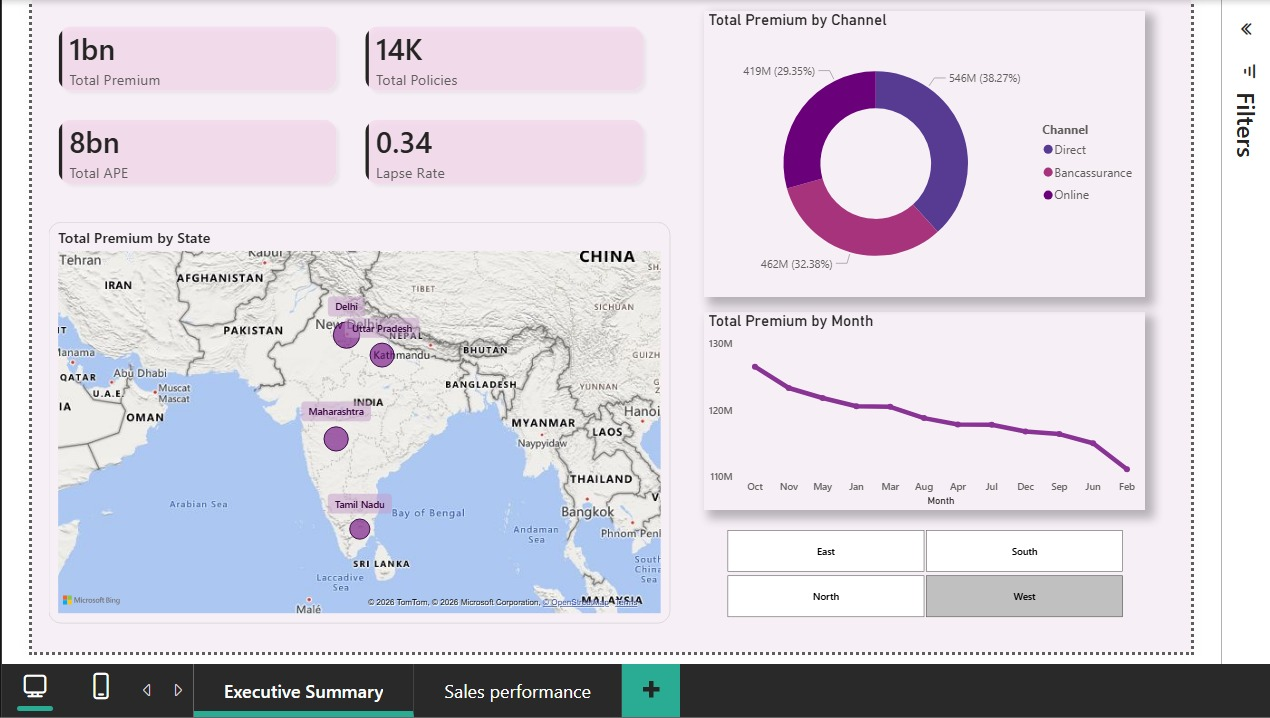

The page's visual inventory and layout, read from the dashboard file:
{"tool":"powerbi","page":{"name":"Executive Summary","canvas":[1280,720],"ordinal":0},"visuals":[{"type":"cardVisual","fields":{"Data":["Fact_Sales.Total Premium","Fact_Sales.Total Policies","Fact_Sales.Total APE","Fact_Sales.Lapse Rate"]},"box":[0,0,705,233.3],"z":0},{"type":"lineChart","fields":{"Y":["Fact_Sales.Total Premium"],"Category":["Dim_Date.Month"]},"box":[741.7,345,486.7,218.3],"z":1000},{"type":"donutChart","fields":{"Y":["Fact_Sales.Total Premium"],"Category":["Dim_Agent.Channel"]},"box":[741.7,11.7,486.7,316.7],"z":2000},{"type":"map","fields":{"Size":["Fact_Sales.Total Premium"],"Category":["Dim_Branch.State"]},"box":[18.3,245,686.7,443.3],"z":3000},{"type":"slicer","fields":{"Values":["Dim_Branch.Region"]},"box":[741.7,578.3,486.7,110],"z":4000}]}

Visuals, with their boxes on the page's 1280x720 design canvas (x1, y1, x2, y2). These are canvas units, not pixel positions in the 1270x718 screenshot, which may show the page scaled, cropped or inside an application window:
cardVisual - Fact_Sales.Total Premium x Fact_Sales.Total Policies: left=0, top=0, right=705, bottom=233
lineChart - Fact_Sales.Total Premium x Dim_Date.Month: left=742, top=345, right=1228, bottom=563
donutChart - Fact_Sales.Total Premium x Dim_Agent.Channel: left=742, top=12, right=1228, bottom=328
map - Fact_Sales.Total Premium x Dim_Branch.State: left=18, top=245, right=705, bottom=688
slicer - Dim_Branch.Region: left=742, top=578, right=1228, bottom=688
